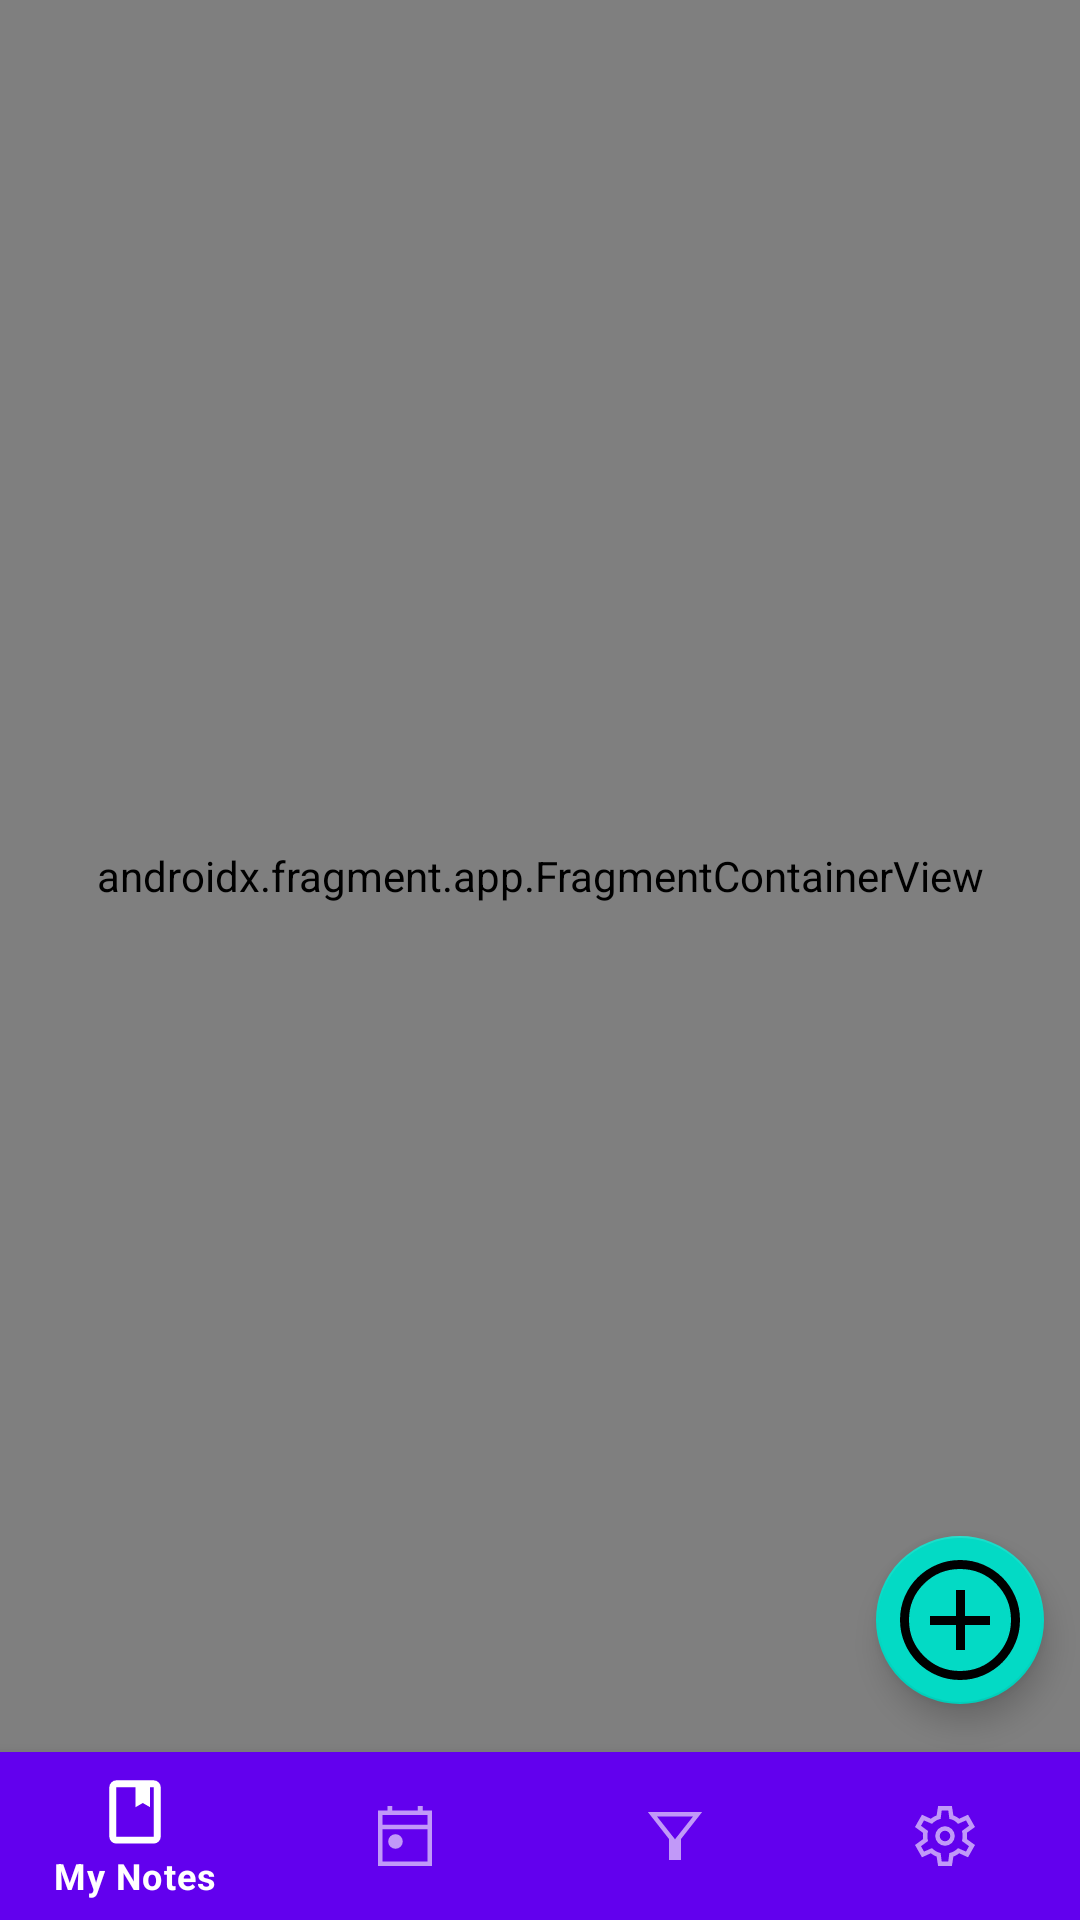

Point at icon controls on the screen. Image size 1080 × 1920, points as (x,y).
Note Add Button: (960,1620)
